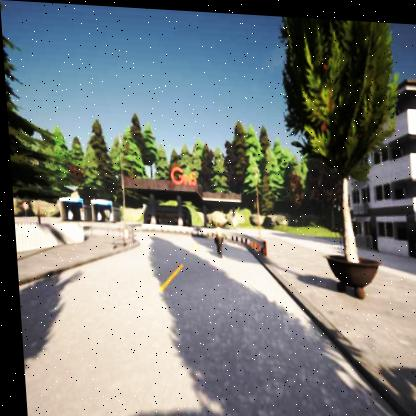motobike: (210, 223, 224, 254)
